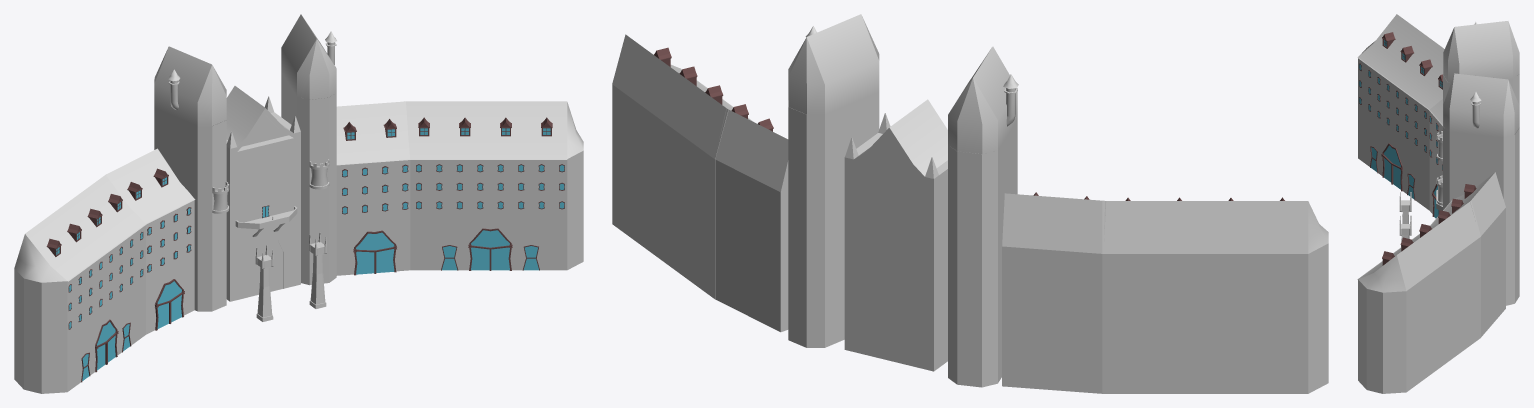
File: CastleModel.FBX
The picture shows the model from 3 angles, left to right: view 1: azimuth 30°, elevation 25°; view 2: azimuth 150°, elevation 25°; view 3: azimuth 270°, elevation 25°; orthographic projection. The views are drawn at different scales.
Parts seen in each view (by area): view 1: Castle_building3&4_wall_front&back4, Castle_building2_wall_front&back, Castle_building3&4_wall_front&back2, Castle_building3&4_wall_front&back, Castle_building1_wall_front, Castle_building_wall_expansion, Castle_building3&4_roof_normal2, Castle_building3&4_roof_normal, Castle_building3&4_roof_normal1, Castle_building2_top_expansion_front&back, Castle_building1_top, Castel_building2_wall_sides (+15 smaller); view 2: Castle_building3&4_wall_front&back1, Castle_building3&4_wall_front&back3, Castle_building3&4_wall_front&back5, Castle_building2_wall_front&back1, Castle_building1_wall_back, Castle_building3&4_roof_normal, Castle_building3&4_roof_normal2, Castle_building3&4_roof_normal1, Castel_building2_wall_sides1, Castle_building1_top, Castle_building2_top_expansion_front&back1, Castle_building2_top_expansion_sides1 (+6 smaller); view 3: Castle_building_wall_expansion, Castle_building3&4_roof_normal2, Castle_building3&4_wall_front&back5, Castle_building3&4_wall_front&back3, Castle_building3&4_roof_normal1, Castle_building3&4_wall_front&back4, Castle_building2_top_expansion_sides, Castle_building3&4_wall_front&back2, Castle_building2_top_expansion_sides1, Castel_building2_wall_sides, Castle_building2_wall_front&back1, Castle_building3&4_wall_front&back1 (+18 smaller).
Part boxes in pixels (bbox=[...]): Castle_building3&4_wall_front&back4: bbox=[67, 160, 567, 391]; Castle_building2_wall_front&back: bbox=[197, 92, 336, 311]; Castle_building3&4_wall_front&back2: bbox=[108, 160, 485, 355]; Castle_building3&4_wall_front&back: bbox=[146, 160, 410, 334]; Castle_building1_wall_front: bbox=[230, 136, 300, 301]; Castle_building_wall_expansion: bbox=[14, 150, 583, 393]; Castle_building3&4_roof_normal2: bbox=[25, 101, 567, 281]; Castle_building3&4_roof_normal: bbox=[106, 101, 410, 223]; Castle_building3&4_roof_normal1: bbox=[66, 101, 485, 251]; Castle_building2_top_expansion_front&back: bbox=[197, 39, 336, 126]; Castle_building1_top: bbox=[226, 86, 300, 153]; Castel_building2_wall_sides: bbox=[154, 96, 330, 311]; Castle_building3&4_wall_front&back1: bbox=[715, 159, 1102, 393]; Castle_building3&4_wall_front&back3: bbox=[663, 122, 1205, 393]; Castle_building3&4_wall_front&back5: bbox=[612, 84, 1308, 393]; Castle_building2_wall_front&back1: bbox=[788, 107, 997, 387]; Castle_building1_wall_back: bbox=[844, 163, 933, 371]; Castle_building3&4_roof_normal: bbox=[715, 108, 1106, 253]; Castle_building3&4_roof_normal2: bbox=[612, 34, 1308, 253]; Castle_building3&4_roof_normal1: bbox=[663, 72, 1205, 253]; Castel_building2_wall_sides1: bbox=[825, 92, 966, 347]; Castle_building1_top: bbox=[844, 99, 947, 184]; Castle_building2_top_expansion_front&back1: bbox=[788, 37, 997, 153]; Castle_building2_top_expansion_sides1: bbox=[807, 14, 990, 114]; Castle_building_wall_expansion: bbox=[1358, 279, 1406, 393]; Castle_building3&4_roof_normal2: bbox=[1357, 14, 1443, 290]; Castle_building3&4_wall_front&back5: bbox=[1406, 264, 1443, 392]; Castle_building3&4_wall_front&back3: bbox=[1443, 237, 1480, 364]; Castle_building3&4_roof_normal1: bbox=[1395, 41, 1480, 263]; Castle_building3&4_wall_front&back4: bbox=[1358, 58, 1395, 175]; Castle_building2_top_expansion_sides: bbox=[1449, 73, 1508, 137]; Castle_building3&4_wall_front&back2: bbox=[1395, 86, 1429, 210]; Castle_building2_top_expansion_sides1: bbox=[1454, 21, 1512, 79]; Castel_building2_wall_sides: bbox=[1449, 131, 1503, 202]; Castle_building2_wall_front&back1: bbox=[1503, 74, 1519, 305]; Castle_building3&4_wall_front&back1: bbox=[1481, 208, 1505, 337].
Bounding box in the file's own units: 15808 × 6500 × 4363.
